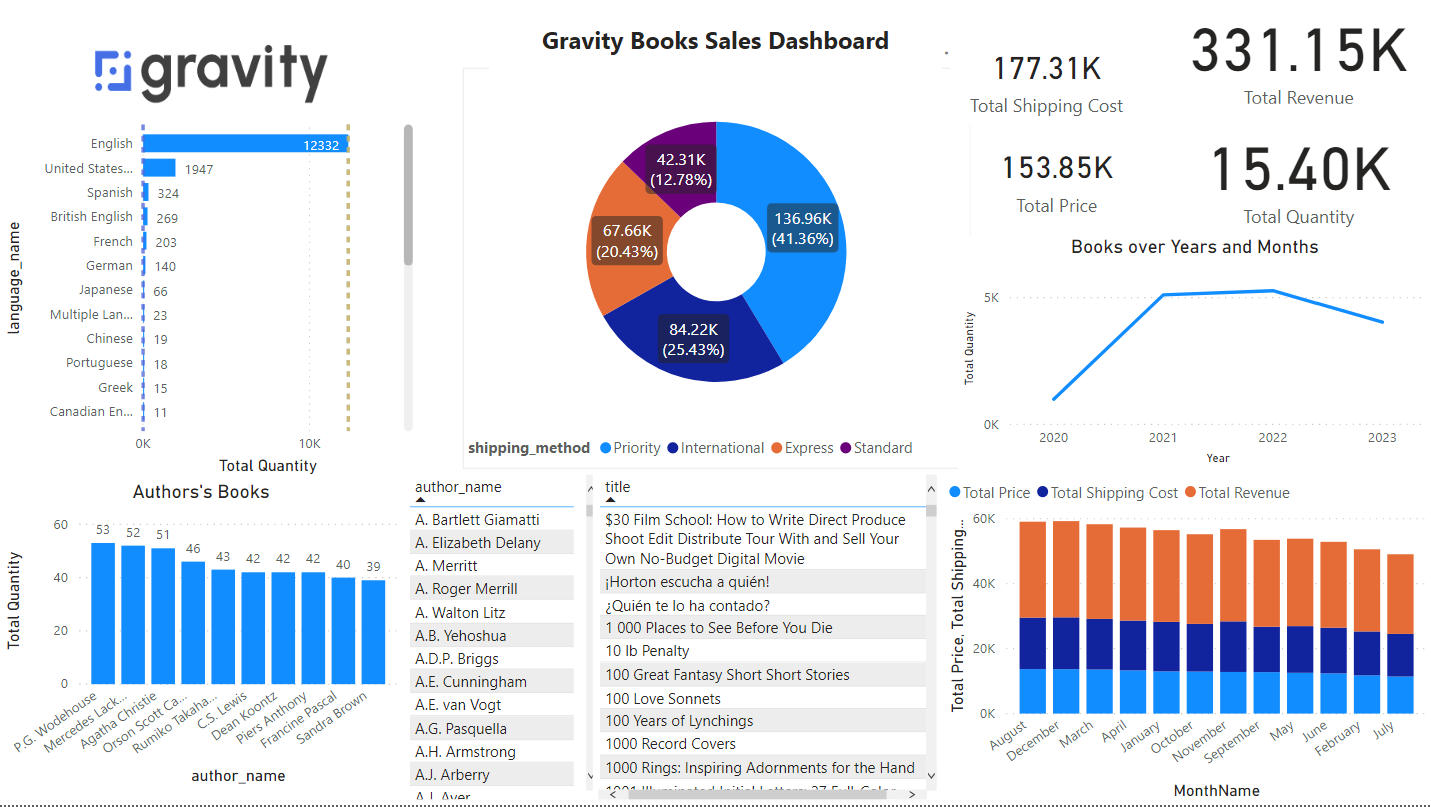

The page's visual inventory and layout, read from the dashboard file:
{"tool":"powerbi","page":{"name":"Page 1","canvas":[1280,720],"ordinal":0},"visuals":[{"type":"card","fields":{"Values":["fact_book_sales.Total Revenue"]},"box":[1041.2,1.2,238.8,140.6],"z":0},{"type":"card","fields":{"Values":["fact_book_sales.Total Quantity"]},"box":[802.4,0,250.9,141.8],"z":1000},{"type":"donutChart","title":"Book Shipping Method","fields":{"Y":["fact_book_sales.Total Revenue"],"Series":["dim_shipping.shipping_method"]},"box":[374.5,1.2,472.7,373.3],"z":2000},{"type":"columnChart","fields":{"Category":["dim_date.MonthName","dim_date.Year"],"Y":["fact_book_sales.Total Price","fact_book_sales.Total Shipping Cost","fact_book_sales.Total Revenue"]},"box":[803.4,374.9,476.6,344.7],"z":3000},{"type":"lineChart","title":"Books over Years and Months","fields":{"Category":["dim_date.Year","dim_date.MonthName"],"Y":["fact_book_sales.Total Quantity"]},"box":[855.9,149.6,424.1,209.4],"z":4000},{"type":"clusteredBarChart","title":"Total Books Language","fields":{"Category":["dim_book.language_name"],"Y":["fact_book_sales.Total Quantity"]},"box":[0,0,374.5,420.6],"z":5000},{"type":"clusteredColumnChart","title":"Authors''s Books","fields":{"Category":["dim_book.author_name"],"Y":["fact_book_sales.Total Quantity"]},"box":[0,420.6,334.5,286.1],"z":6000},{"type":"tableEx","fields":{"Values":["dim_book.author_name"]},"box":[334.5,420.6,170.9,299.4],"z":7000},{"type":"tableEx","fields":{"Values":["dim_book.title"]},"box":[505.5,420.6,297,299.4],"z":8000}]}

Visuals, with their boxes in screenshot pixels (x1, y1, x2, y2), scaled from the page's 1280x720 canvas onto the 1431x807 screenshot:
card - fact_book_sales.Total Revenue: bbox(1164, 1, 1430, 159)
card - fact_book_sales.Total Quantity: bbox(897, 0, 1178, 159)
"Book Shipping Method" donutChart: bbox(419, 1, 947, 420)
columnChart - dim_date.MonthName x dim_date.Year: bbox(898, 420, 1430, 806)
"Books over Years and Months" lineChart: bbox(957, 168, 1430, 402)
"Total Books Language" clusteredBarChart: bbox(0, 0, 419, 471)
"Authors''s Books" clusteredColumnChart: bbox(0, 471, 374, 792)
tableEx - dim_book.author_name: bbox(374, 471, 565, 806)
tableEx - dim_book.title: bbox(565, 471, 897, 806)
